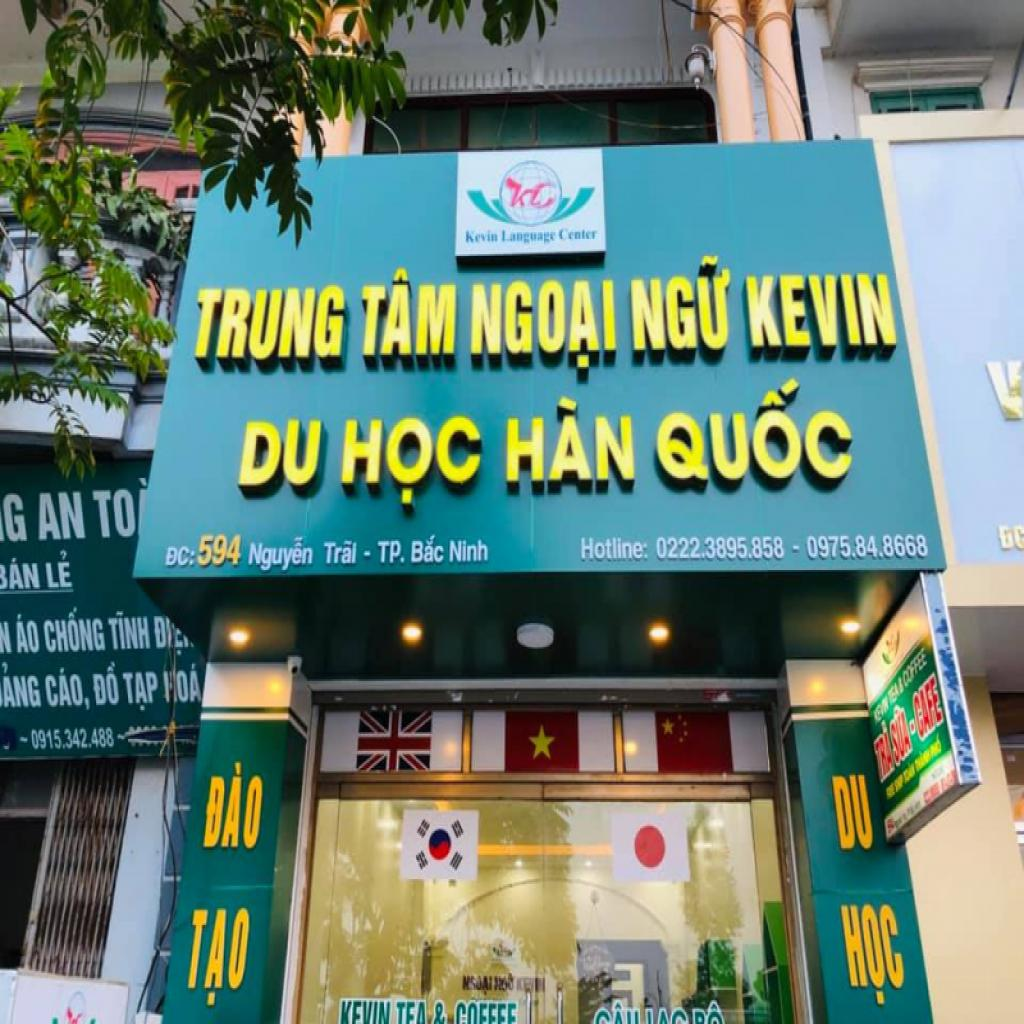text: (648, 381, 862, 495), (463, 276, 621, 379), (329, 411, 485, 514), (742, 266, 902, 364), (186, 282, 350, 377), (497, 398, 640, 496), (623, 252, 735, 362), (351, 268, 463, 374), (178, 901, 253, 1012), (837, 898, 909, 1010), (232, 415, 329, 498), (198, 758, 272, 855), (827, 768, 878, 857), (656, 531, 788, 565), (806, 533, 932, 563), (42, 606, 108, 657), (35, 487, 87, 546), (90, 483, 138, 544), (244, 536, 318, 575), (986, 352, 1022, 428), (912, 669, 948, 744), (30, 724, 116, 754), (42, 664, 94, 713), (578, 531, 652, 565), (106, 606, 151, 654), (3, 659, 42, 710), (870, 718, 898, 787), (507, 176, 559, 213), (196, 529, 242, 570), (888, 701, 916, 768), (122, 666, 160, 714), (0, 556, 42, 598), (338, 995, 395, 1024), (90, 660, 122, 708), (447, 536, 494, 568), (321, 536, 361, 573), (4, 485, 29, 544), (45, 546, 74, 596), (410, 532, 449, 568), (13, 610, 42, 656), (178, 660, 206, 705), (501, 226, 558, 248), (372, 538, 408, 570), (904, 647, 930, 691), (163, 541, 197, 573), (482, 998, 518, 1024), (998, 519, 1024, 553), (453, 995, 483, 1024), (559, 225, 599, 246), (463, 970, 494, 994), (154, 613, 174, 650), (516, 971, 549, 993), (466, 227, 499, 246), (407, 996, 427, 1024), (0, 616, 13, 655), (494, 970, 517, 992), (430, 998, 449, 1024), (394, 998, 408, 1024)
